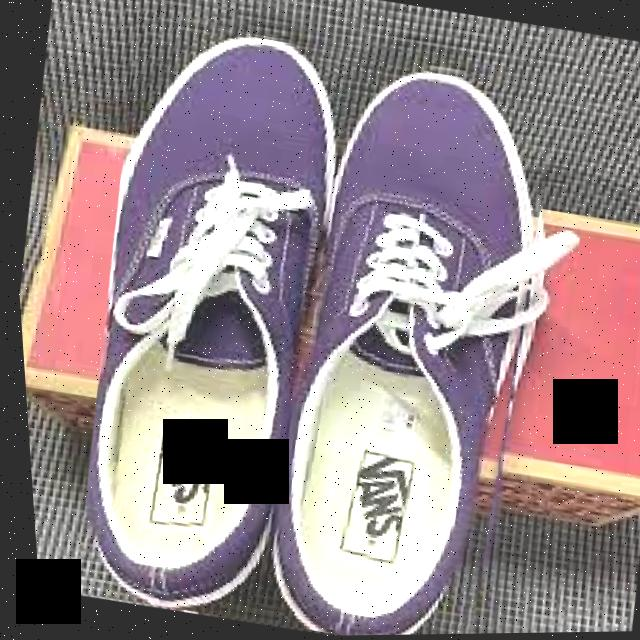shoe: (36, 7, 589, 640)
